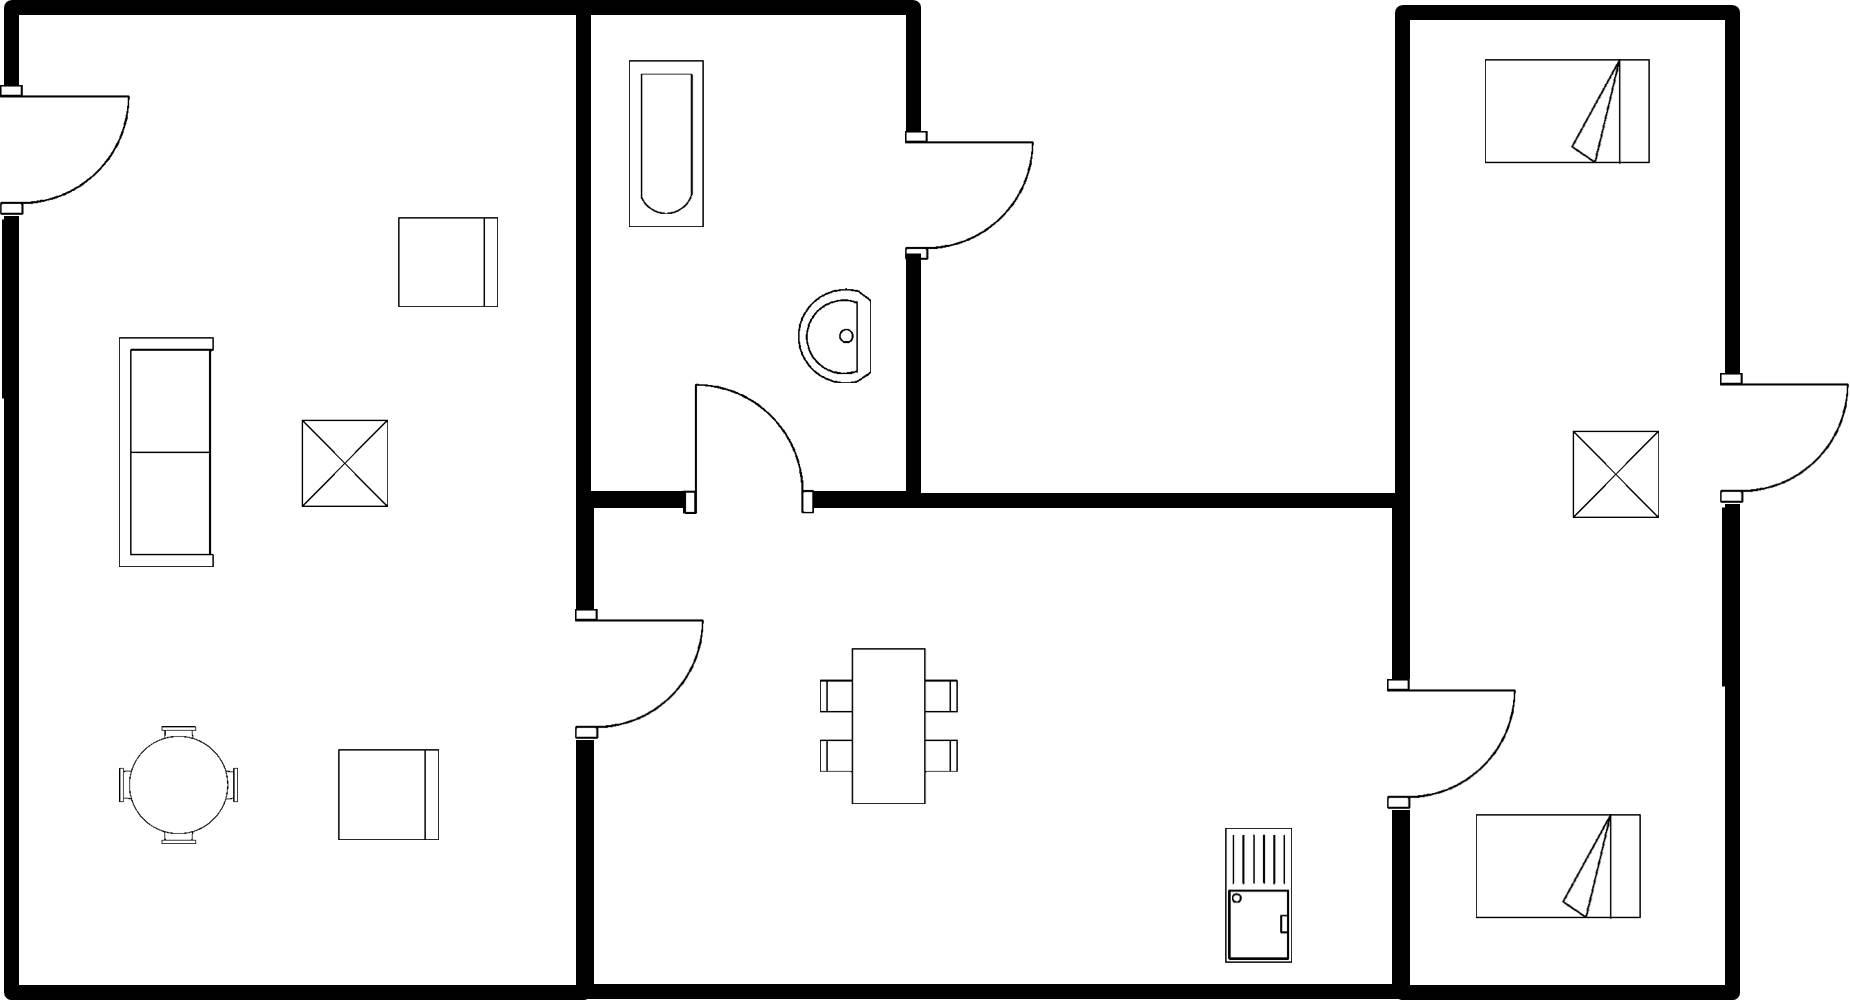bed: (1468, 46, 1660, 174), (1464, 803, 1652, 931)
dining_table: (807, 637, 963, 812)
round_table: (106, 716, 247, 850)
sink: (1211, 817, 1305, 970)
sofa: (110, 325, 219, 574)
tub: (615, 48, 711, 240)
